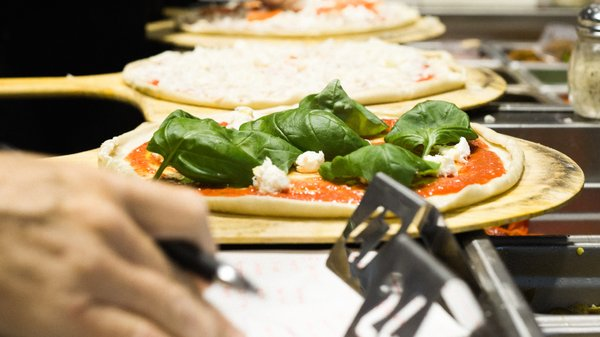sandwich: (93, 74, 531, 221), (125, 35, 471, 110)
